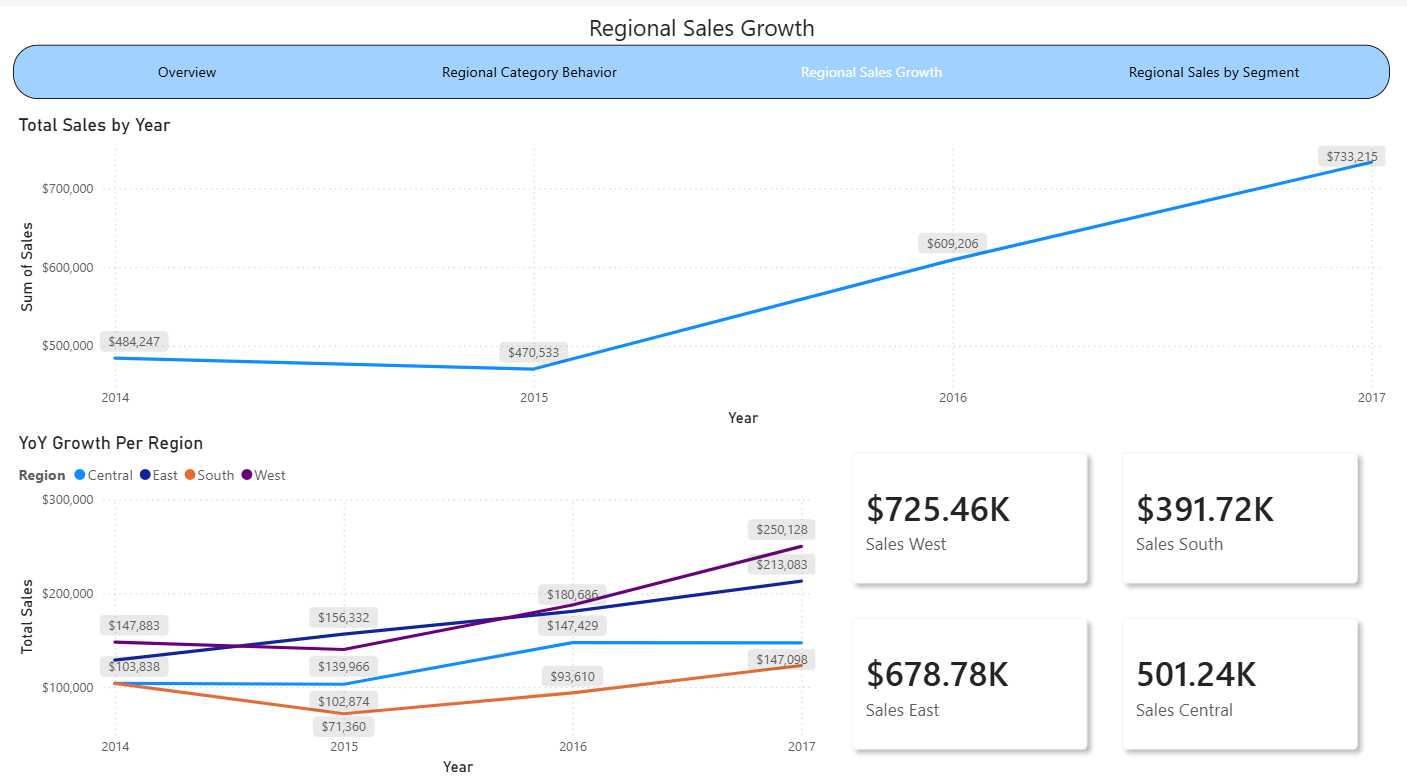

This screenshot's page, from the dashboard's own definition file:
{"tool":"powerbi","page":{"name":"Regional Sales Growth","canvas":[1280,720],"ordinal":2},"visuals":[{"type":"lineChart","title":"YoY Growth Per Region","fields":{"Category":["Superstore.Year"],"Series":["Superstore.Region"],"Y":["Superstore.Total Sales"]},"box":[0,396.6,750.6,323.8],"z":0},{"type":"textbox","box":[0,0,1280,44.3],"z":1000},{"type":"lineChart","title":"Total Sales by Year","fields":{"Category":["Superstore.Year"],"Y":["Sum(Superstore.Sales)"]},"box":[0,100.2,1280.3,296.4],"z":2000},{"type":"pageNavigator","box":[0,35.5,1279.1,50.1],"z":3000},{"type":"cardVisual","fields":{"Data":["Superstore.Sales West","Superstore.Sales South","Superstore.Sales East","Superstore.Sales Central"]},"box":[750.6,385.6,529.7,334.8],"z":4000}]}

Visuals, with their boxes in screenshot pixels (x1, y1, x2, y2), scaled from the page's 1280x720 canvas onto the 1407x776 screenshot:
"YoY Growth Per Region" lineChart: region(0, 427, 825, 775)
textbox: region(0, 0, 1406, 48)
"Total Sales by Year" lineChart: region(0, 108, 1406, 427)
pageNavigator: region(0, 38, 1406, 92)
cardVisual - Superstore.Sales West x Superstore.Sales South: region(825, 416, 1406, 775)
